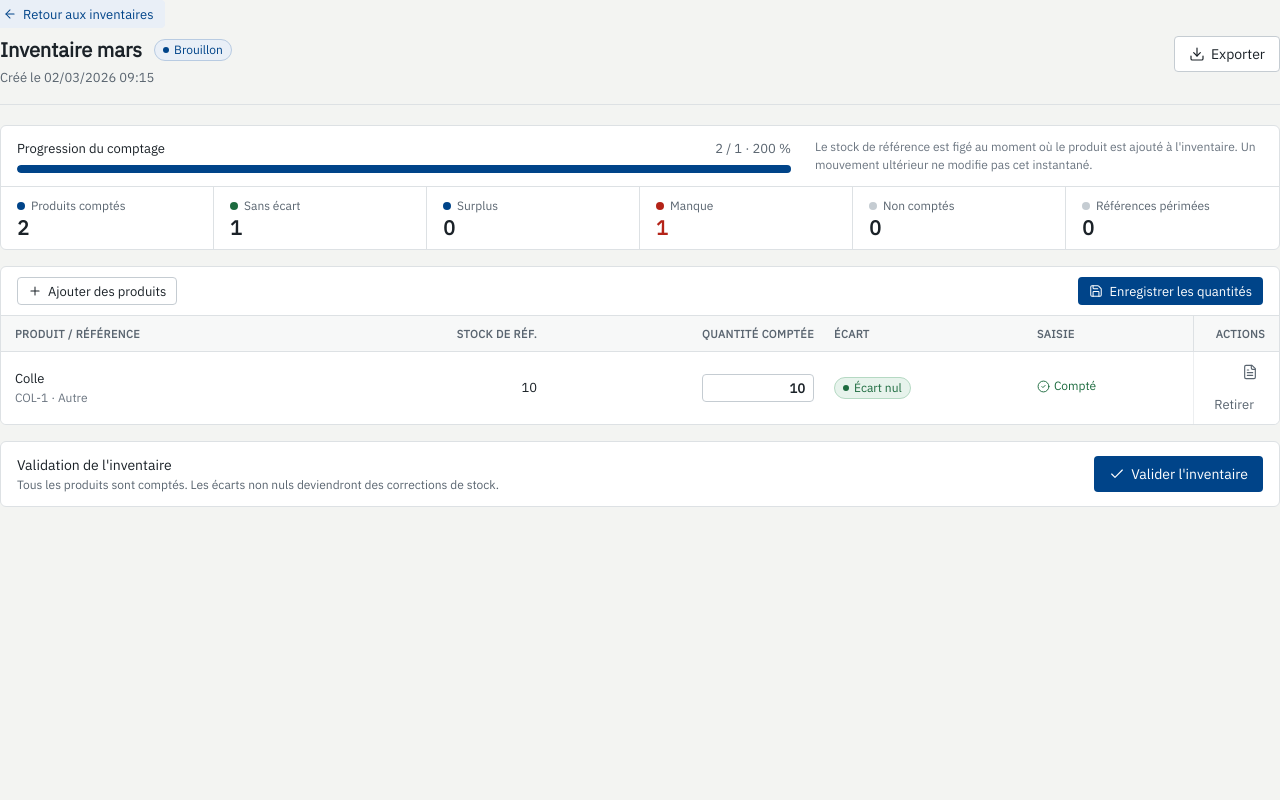
Test: saisie d'un inventaire › demande une confirmation avant de valider
Click the button "Valider l'inventaire" at (1179, 474), box [1094,456,1263,492]
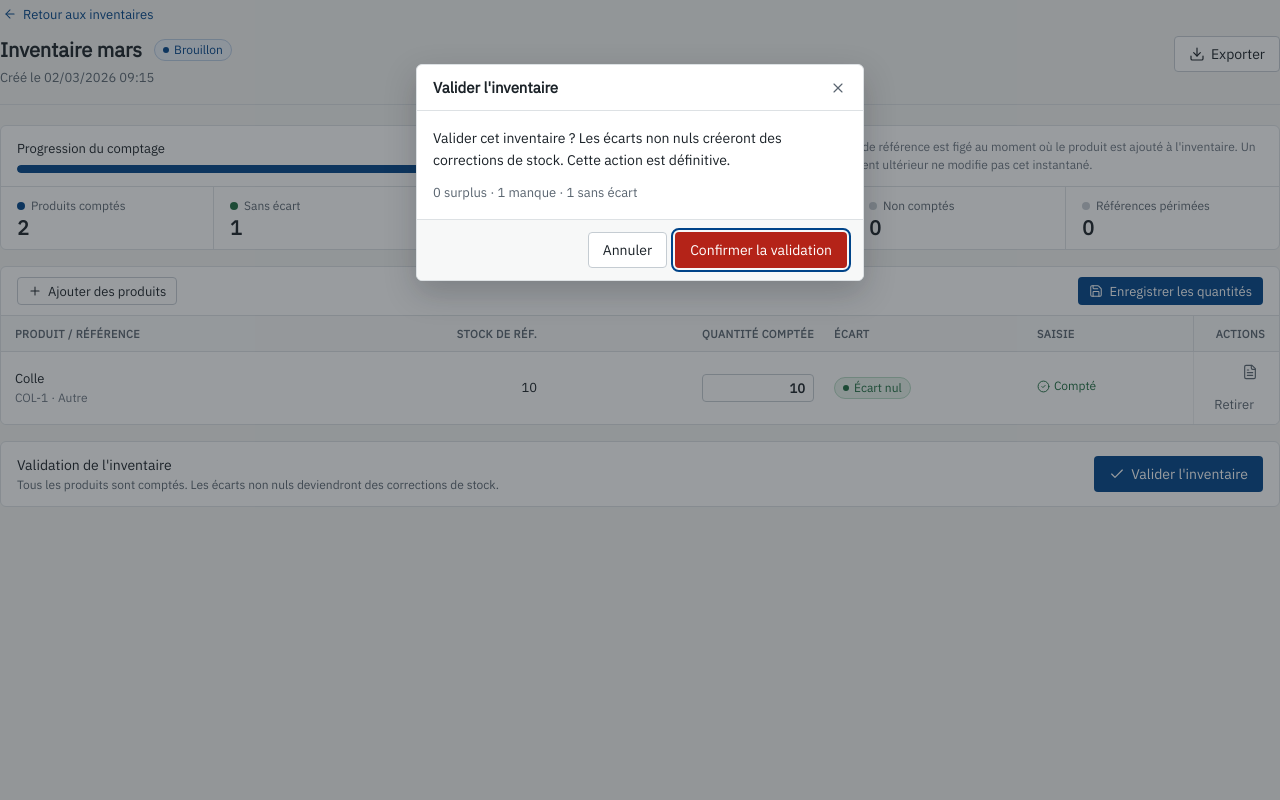
Result: the text "Cette action est définitive" is shown at [433,129,782,169]
Click the button "Confirmer la validation" at (761, 250), box [675,232,847,268]
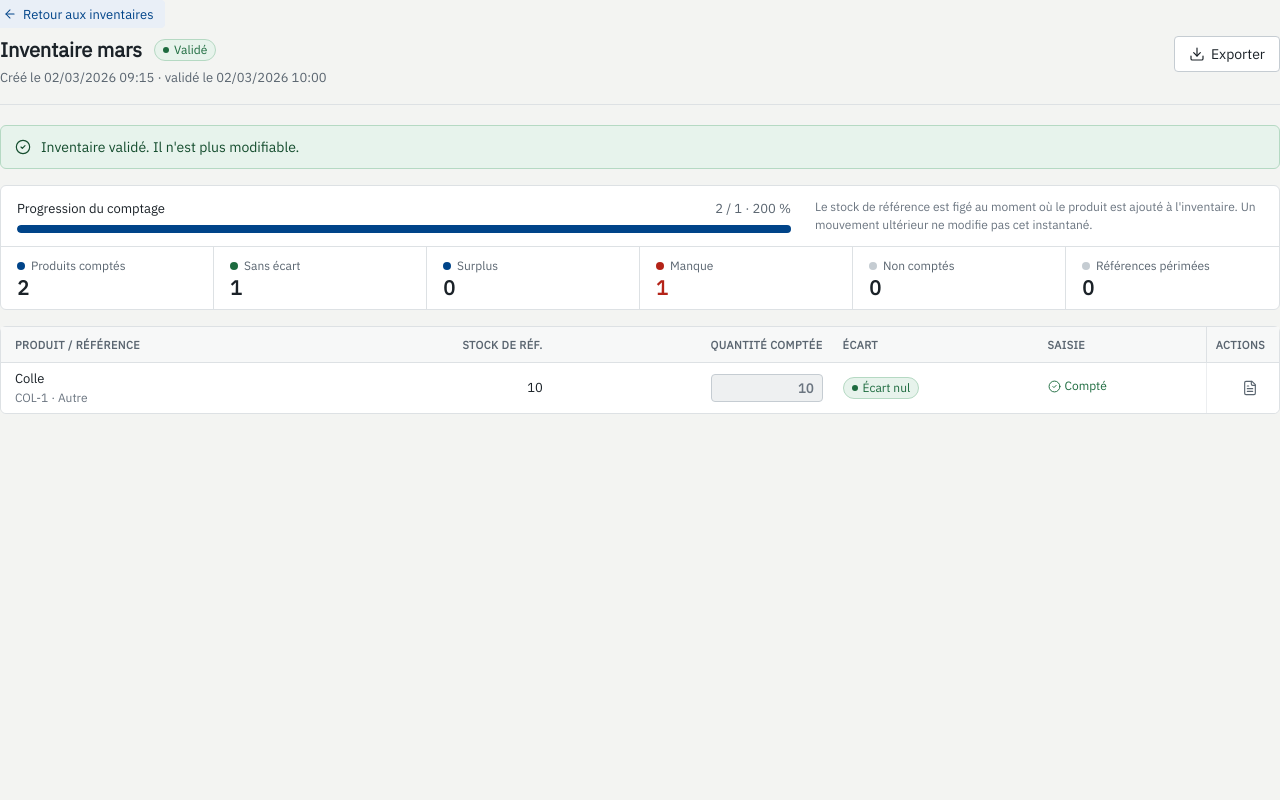
Result: the text "Inventaire validé. Il n'est plus modifiable." is shown at [41,138,299,156]
